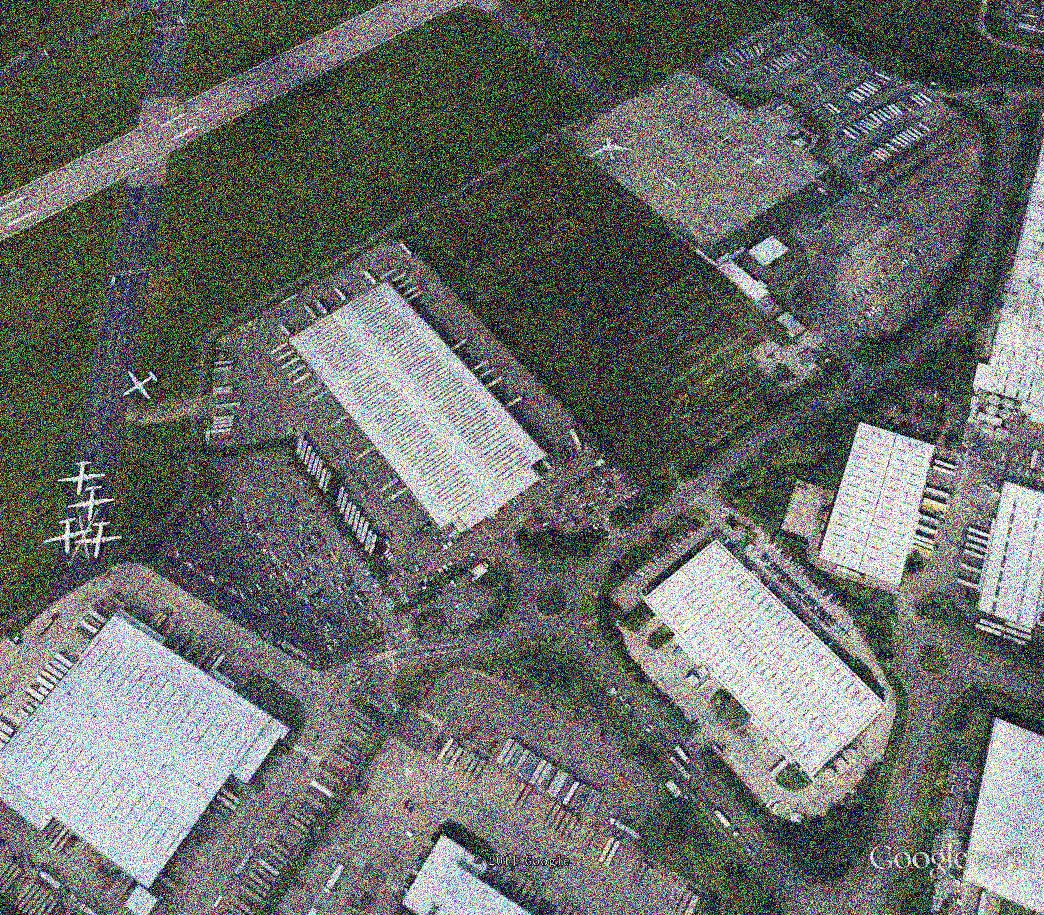aircraft: (73, 520, 123, 564), (39, 516, 93, 555), (57, 457, 107, 499), (66, 485, 119, 523), (590, 133, 638, 166), (122, 368, 160, 403), (711, 131, 737, 148), (749, 153, 767, 172), (662, 174, 679, 192)
